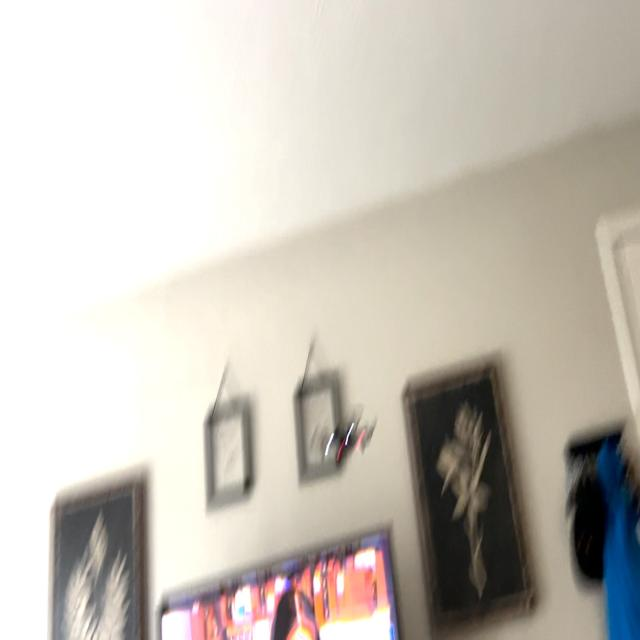drone: (306, 389, 386, 478)
